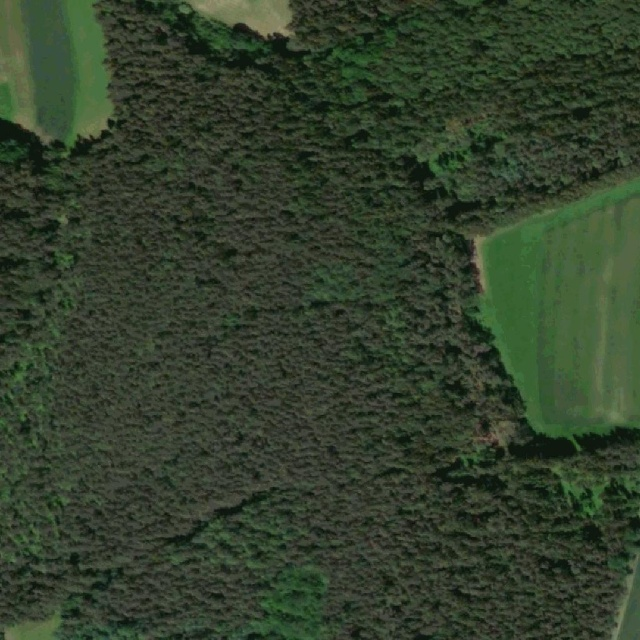vegetation: (0, 0, 640, 640)
